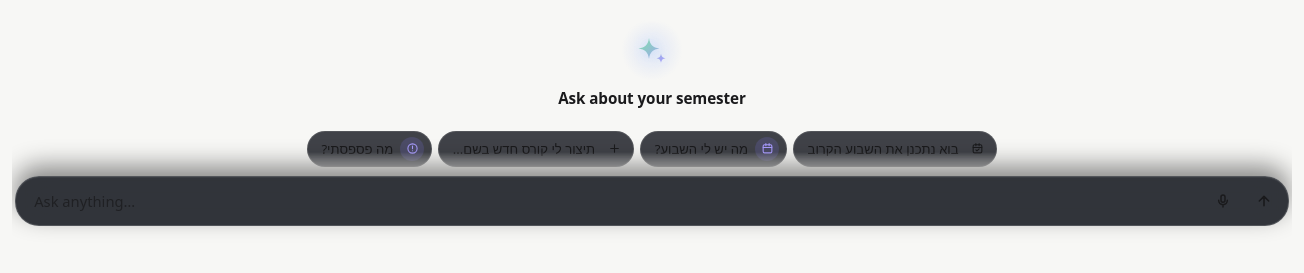
AgentPanel › never deletes through Confirm all
Click the button "מה פספסתי?" at (369,149), box x1=307 y1=131 x2=432 y2=167
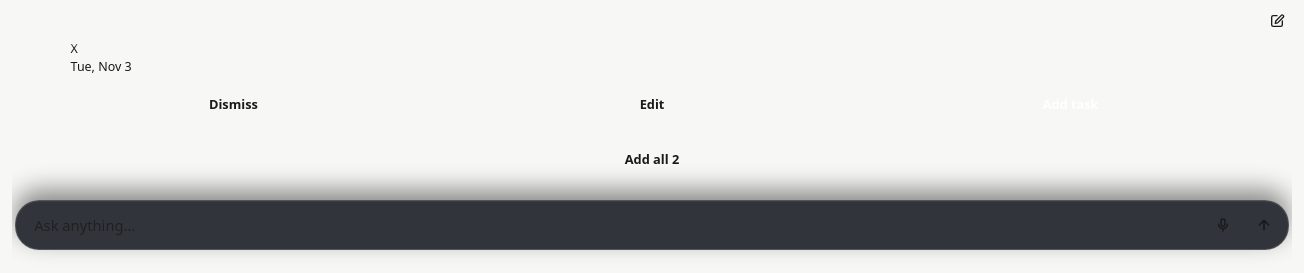
Click the button "Add all 2" at (652,159), box x1=15 y1=142 x2=1289 y2=176
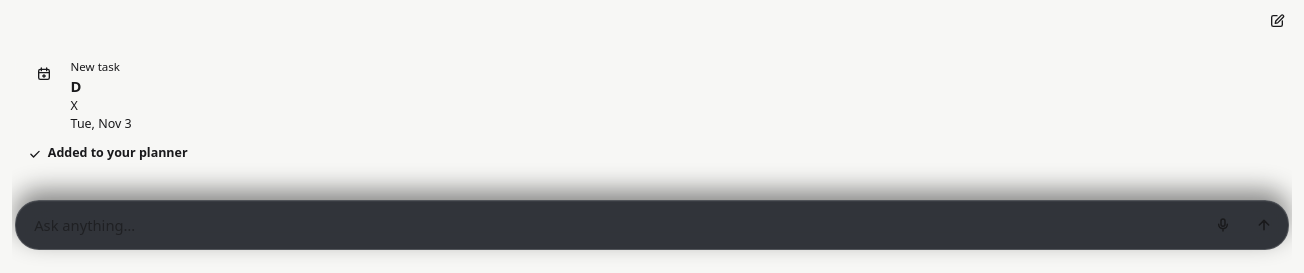
Now the text "Added to your planner" is shown 2 times
